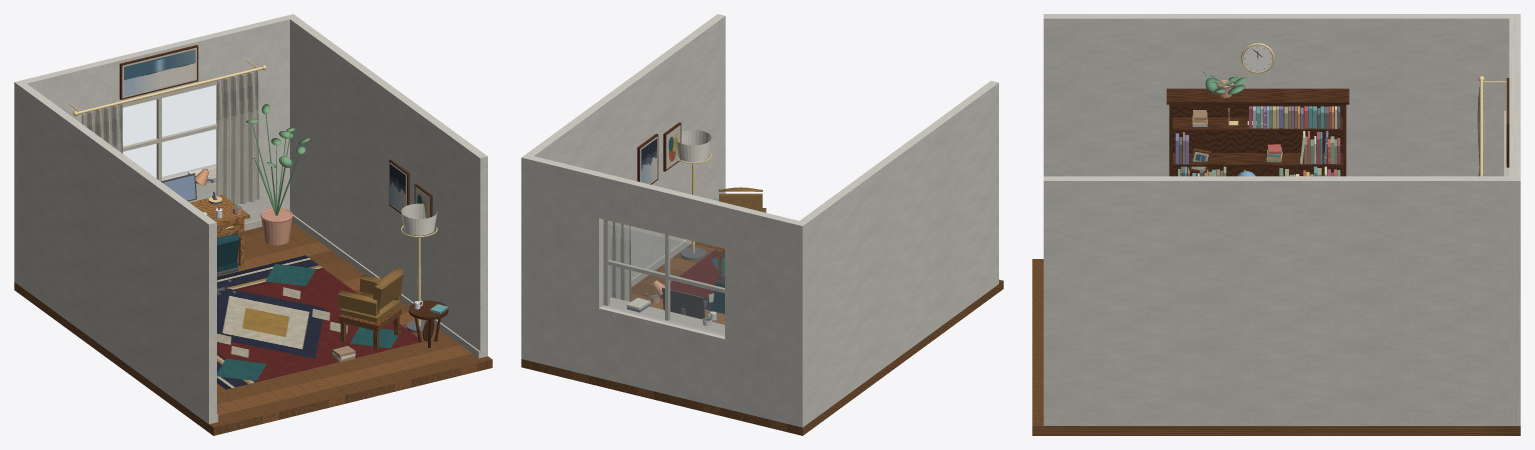
Rendered from study_room.glb.
The picture shows the model from 3 angles, left to right: view 1: azimuth 30°, elevation 25°; view 2: azimuth 150°, elevation 25°; view 3: azimuth 270°, elevation 25°; orthographic projection. The views are drawn at different scales.
Parts seen in each view (by area): view 1: Wall_Left, Wall_Right, Floor, Rug, Window_Glass, Wall_Back_Right, Curtain_R, Wall_Back_Left, Wall_Back_Top, Wall_Back_Lower, Picture_OverWindow_Canvas, CornerPlant (+18 smaller); view 2: Wall_Left, Wall_Back_Lower, Wall_Right, Wall_Back_Left, Wall_Back_Right, Window_Glass, Wall_Back_Top, Floor, Curtain_R, Rug, Window_Sill, FloorLamp_Shade (+6 smaller); view 3: Wall_Right, Wall_Left, Floor, Bookcase_Back, Bookcase, Bookcase_Crown, Wall_Back_Right, Wall_Back_Lower, Wall_Back_Top, WallClock_Face, Wall_Back_Left, Bookcase_Plant (+1 smaller).
Boxes of the visible parts, x1,y1,x2,y2 form: Wall_Left: [19, 83, 216, 424]; Wall_Right: [290, 17, 487, 357]; Floor: [14, 222, 492, 435]; Rug: [217, 255, 422, 389]; Window_Glass: [123, 85, 216, 178]; Wall_Back_Right: [216, 14, 297, 162]; Curtain_R: [216, 71, 259, 205]; Wall_Back_Left: [14, 63, 95, 215]; Wall_Back_Top: [92, 33, 220, 107]; Wall_Back_Lower: [14, 150, 289, 284]; Picture_OverWindow_Canvas: [124, 49, 195, 96]; CornerPlant: [246, 104, 309, 215]; Wall_Left: [800, 80, 998, 423]; Wall_Back_Lower: [521, 289, 807, 427]; Wall_Right: [526, 14, 725, 279]; Wall_Back_Left: [725, 204, 807, 357]; Wall_Back_Right: [521, 154, 603, 308]; Window_Glass: [603, 222, 724, 336]; Wall_Back_Top: [599, 173, 728, 248]; Floor: [521, 241, 1003, 435]; Curtain_R: [610, 221, 631, 301]; Rug: [647, 249, 724, 310]; Window_Sill: [608, 297, 724, 334]; FloorLamp_Shade: [675, 130, 711, 162]; Wall_Right: [1043, 176, 1509, 425]; Wall_Left: [1043, 14, 1509, 176]; Floor: [1032, 259, 1520, 435]; Bookcase_Back: [1172, 106, 1342, 176]; Bookcase: [1172, 117, 1342, 166]; Bookcase_Crown: [1166, 88, 1349, 104]; Wall_Back_Right: [1509, 135, 1520, 341]; Wall_Back_Lower: [1509, 341, 1520, 425]; Wall_Back_Top: [1509, 60, 1520, 134]; WallClock_Face: [1243, 45, 1272, 71]; Wall_Back_Left: [1509, 14, 1520, 59]; Bookcase_Plant: [1202, 71, 1246, 94].
Size of the model in its own units: 4.24 by 3.02 by 5.24.
56 materials, 52 textured.
